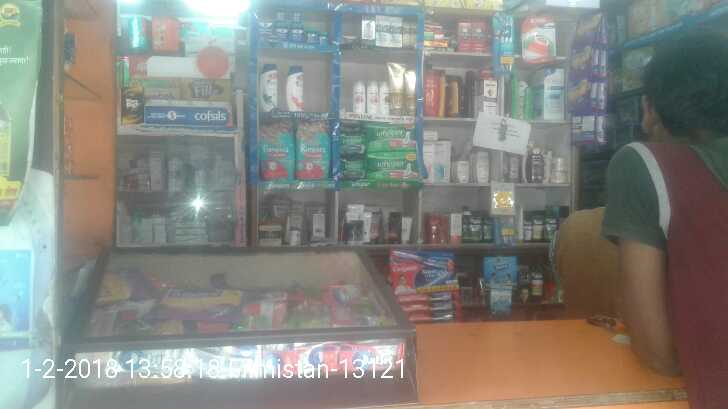vicks: (258, 7, 328, 45)
